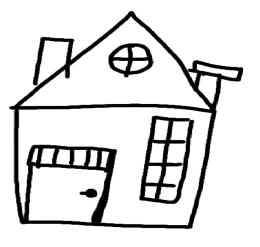big_house: (0, 0, 260, 247)
chimney: (184, 44, 247, 113), (28, 29, 80, 88)
closed_window: (134, 111, 196, 206), (106, 40, 154, 82)
door: (20, 140, 122, 227)
roof: (4, 7, 233, 116)
wall: (9, 97, 218, 233)
